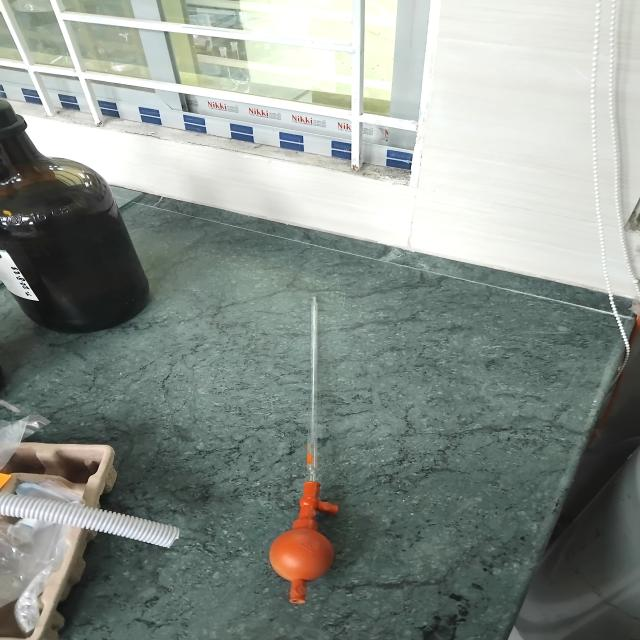Volumetric_Pipet: (261, 276, 352, 625)
